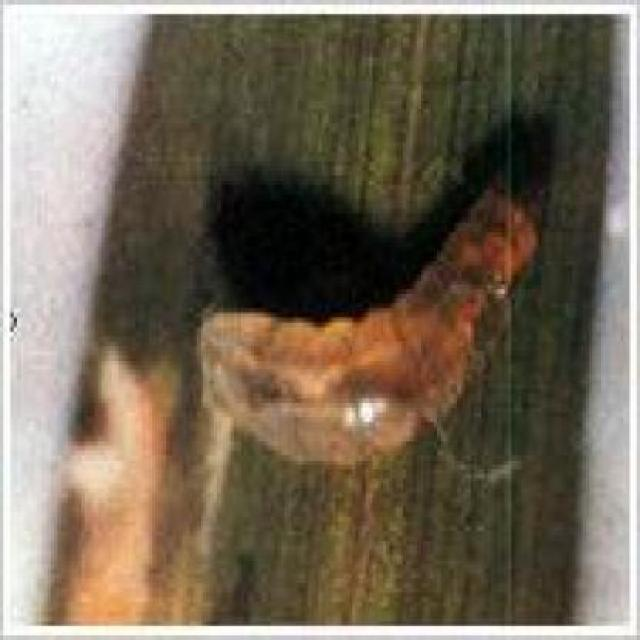whorl-maggot: (195, 184, 548, 502)
